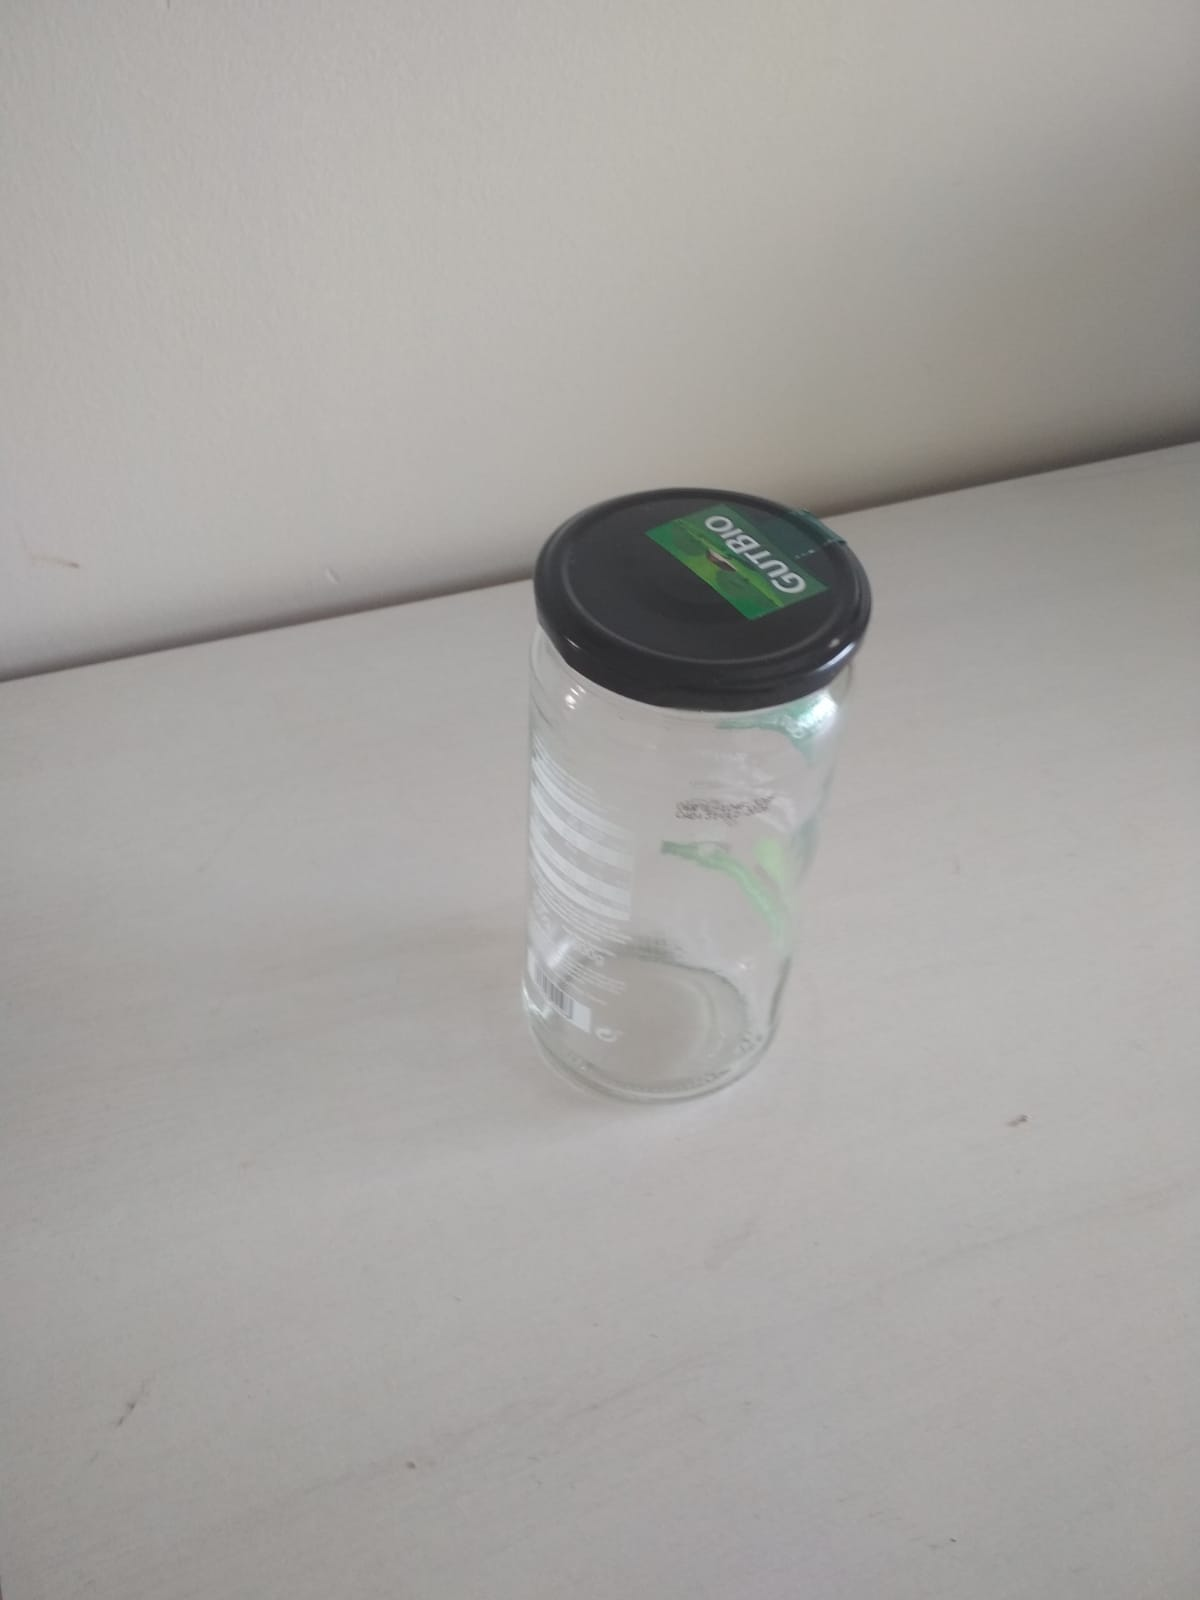pote cristal: (529, 483, 877, 1095)
